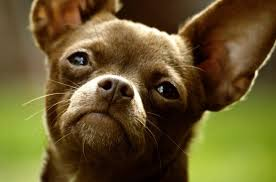chihuahua: (23, 1, 276, 171)
